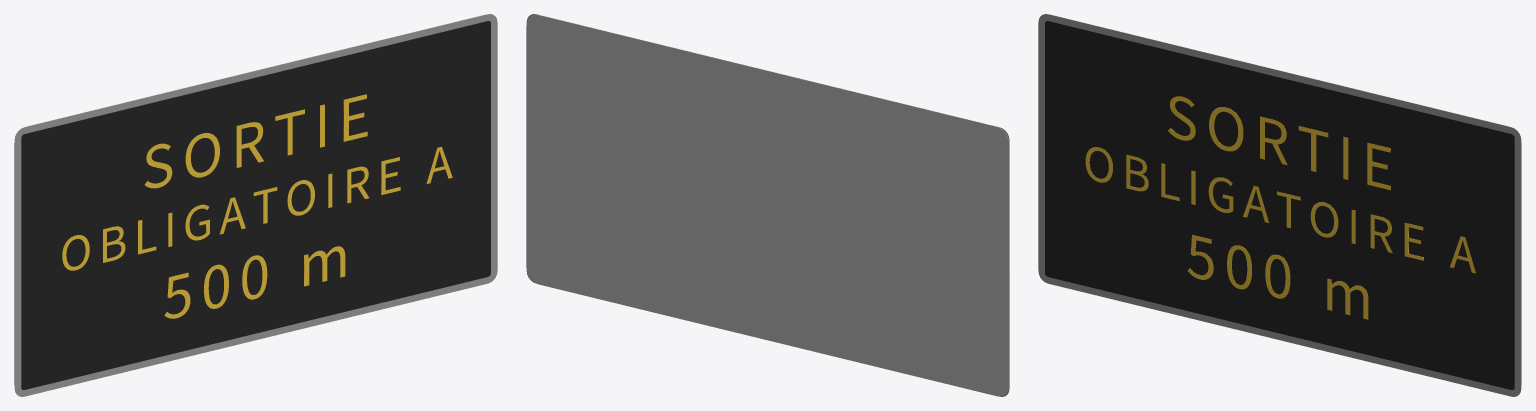
The model's file is MSG_SORTIE_OBLIGATOIRE_A_yyyy_m.glb.
3 views of the same model, side by side, from view 1: azimuth 30°, elevation 25°; view 2: azimuth 150°, elevation 25°; view 3: azimuth 330°, elevation 25° (orthographic).
Parts seen in each view (by area): view 1: MSG_SORTIE_OBLIGATOIRE_A_yyyy_m_fond01, MSG_SORTIE_OBLIGATOIRE_A_yyyy_m_cadre00, MSG_SORTIE_OBLIGATOIRE_A_yyyy_m_txt03, MSG_SORTIE_OBLIGATOIRE_A_yyyy_m_txt02, MSG_SORTIE_OBLIGATOIRE_A_yyyy_m_txt04, MSG_SORTIE_OBLIGATOIRE_A_yyyy_m_dos; view 2: MSG_SORTIE_OBLIGATOIRE_A_yyyy_m_dos; view 3: MSG_SORTIE_OBLIGATOIRE_A_yyyy_m_fond01, MSG_SORTIE_OBLIGATOIRE_A_yyyy_m_cadre00, MSG_SORTIE_OBLIGATOIRE_A_yyyy_m_txt03, MSG_SORTIE_OBLIGATOIRE_A_yyyy_m_txt02, MSG_SORTIE_OBLIGATOIRE_A_yyyy_m_txt04, MSG_SORTIE_OBLIGATOIRE_A_yyyy_m_dos.
Boxes of the visible parts, <box> form: MSG_SORTIE_OBLIGATOIRE_A_yyyy_m_fond01: <box>21,21,490,389</box>; MSG_SORTIE_OBLIGATOIRE_A_yyyy_m_cadre00: <box>14,14,497,396</box>; MSG_SORTIE_OBLIGATOIRE_A_yyyy_m_txt03: <box>62,146,452,270</box>; MSG_SORTIE_OBLIGATOIRE_A_yyyy_m_txt02: <box>145,94,367,188</box>; MSG_SORTIE_OBLIGATOIRE_A_yyyy_m_txt04: <box>164,246,345,318</box>; MSG_SORTIE_OBLIGATOIRE_A_yyyy_m_dos: <box>14,14,484,384</box>; MSG_SORTIE_OBLIGATOIRE_A_yyyy_m_dos: <box>526,14,1009,396</box>; MSG_SORTIE_OBLIGATOIRE_A_yyyy_m_fond01: <box>1045,21,1514,389</box>; MSG_SORTIE_OBLIGATOIRE_A_yyyy_m_cadre00: <box>1038,14,1521,396</box>; MSG_SORTIE_OBLIGATOIRE_A_yyyy_m_txt03: <box>1085,147,1475,273</box>; MSG_SORTIE_OBLIGATOIRE_A_yyyy_m_txt02: <box>1168,96,1390,190</box>; MSG_SORTIE_OBLIGATOIRE_A_yyyy_m_txt04: <box>1187,234,1368,319</box>; MSG_SORTIE_OBLIGATOIRE_A_yyyy_m_dos: <box>1051,14,1521,384</box>.
Bounding box in the file's own units: 1.5 × 0.8 × 0.0033.
